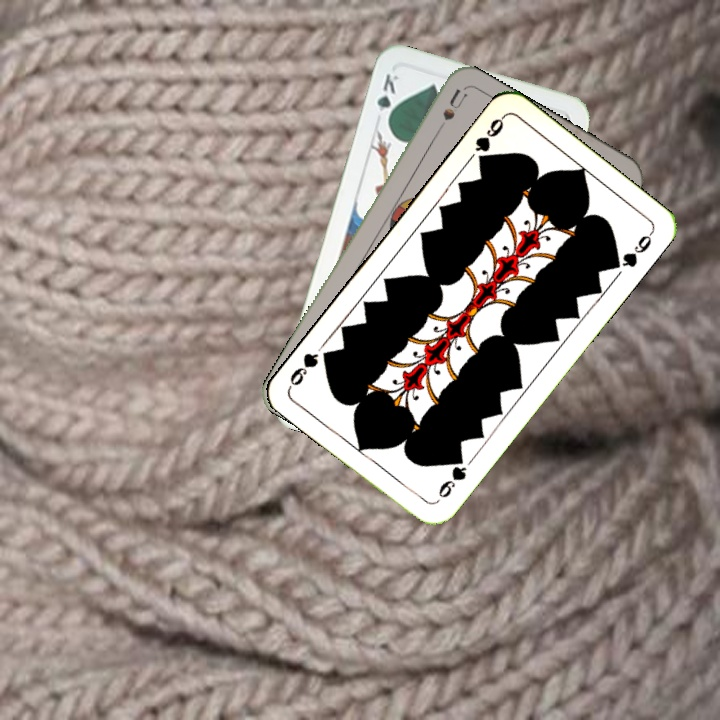G9: (470, 112, 508, 168), (434, 451, 469, 501)
GK: (371, 69, 401, 127)
SU: (429, 85, 469, 141)
